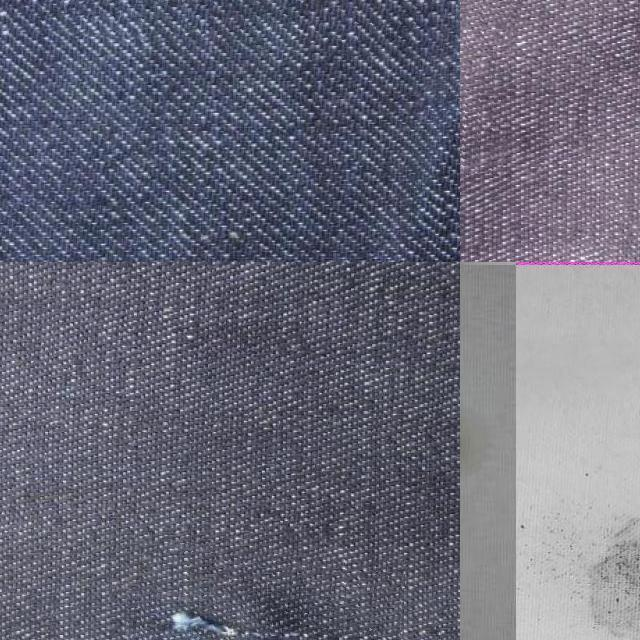Thread_other: (521, 458, 640, 640), (460, 373, 516, 543)
stains: (124, 544, 404, 640), (460, 0, 524, 171)
